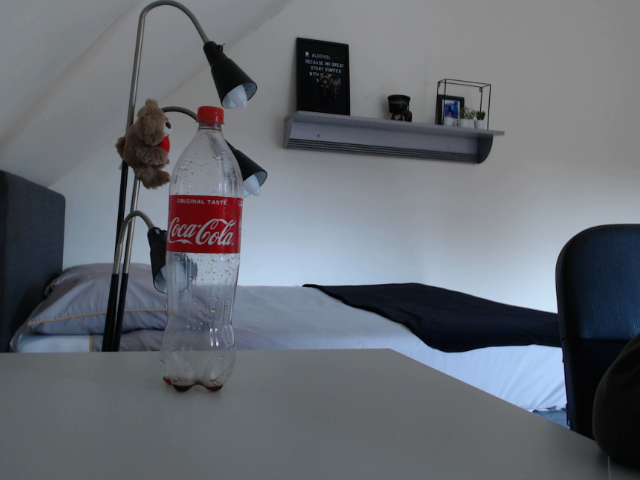bottle: (159, 106, 244, 394)
